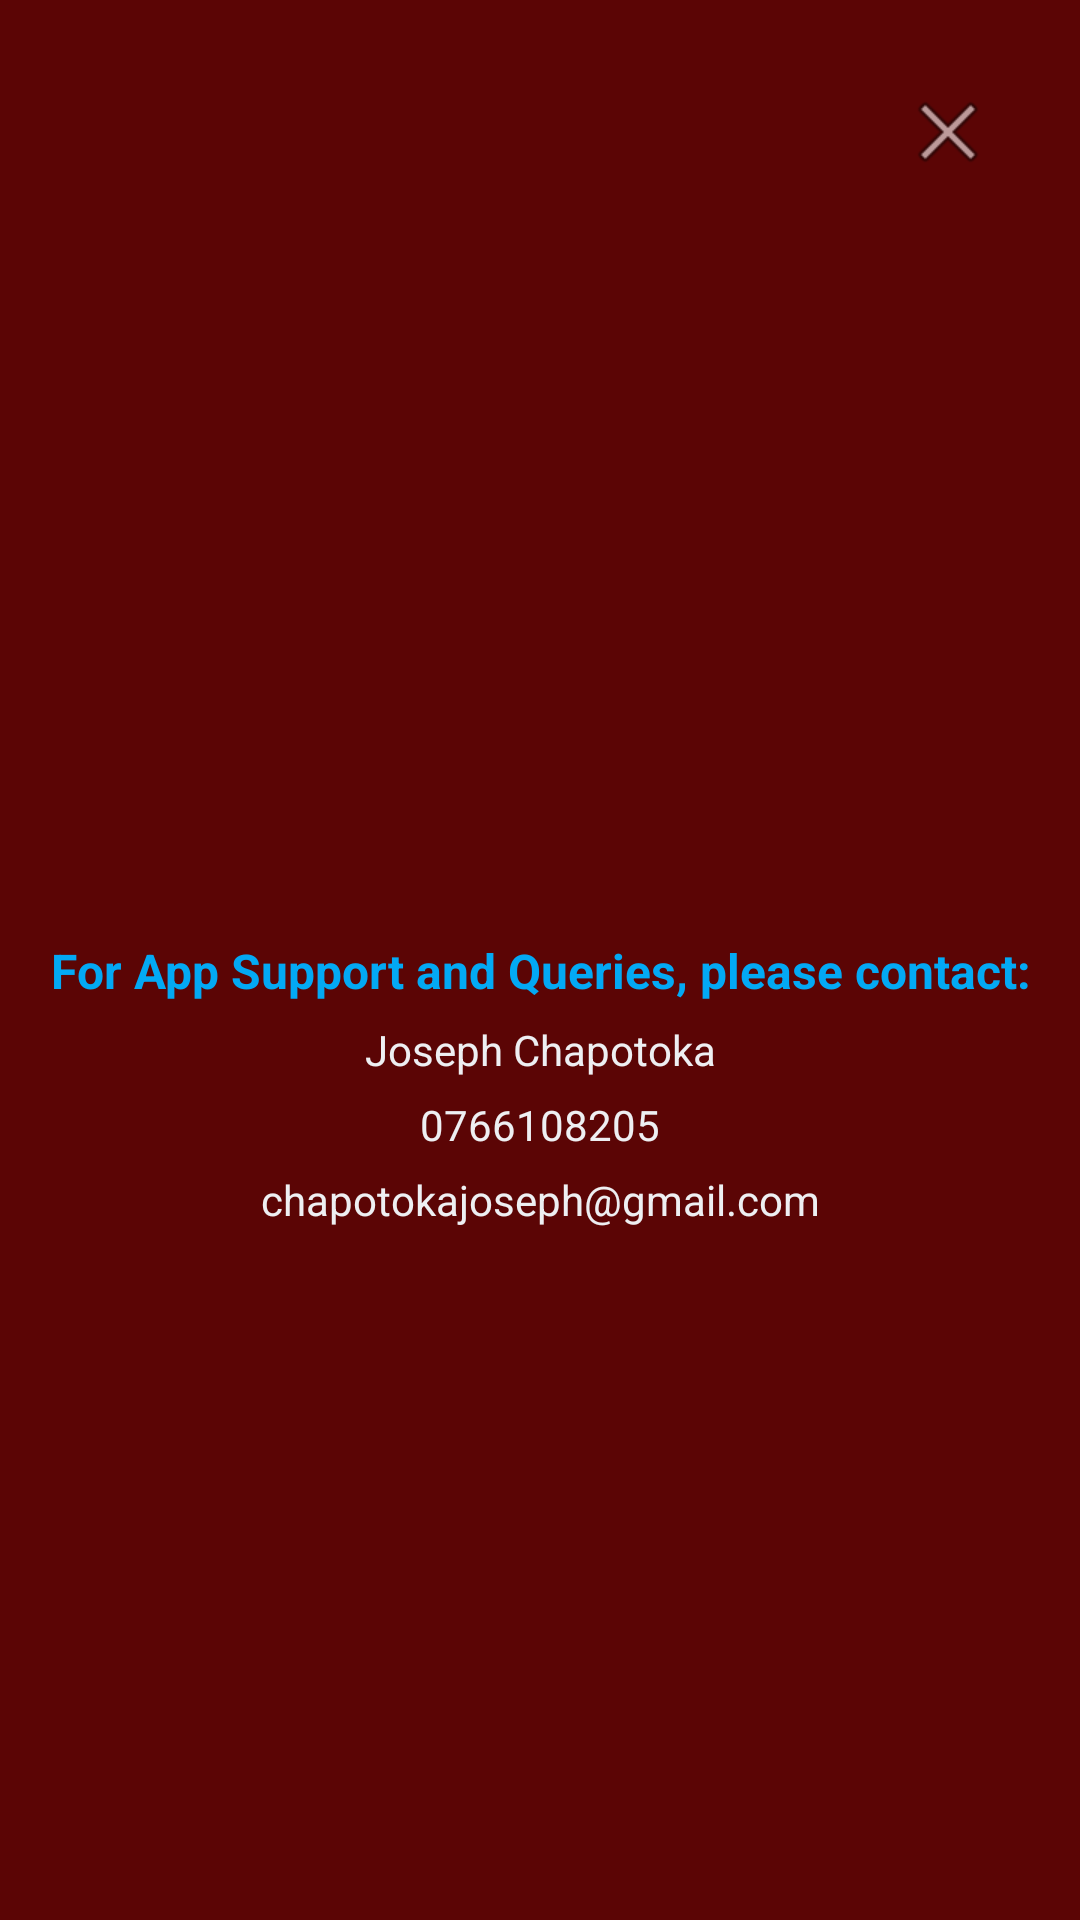

Named icons in this screenshot (1080px×1920px) and their bounding boxes, (x1, y1, x2, y2):
Close: (919, 103, 977, 161)
